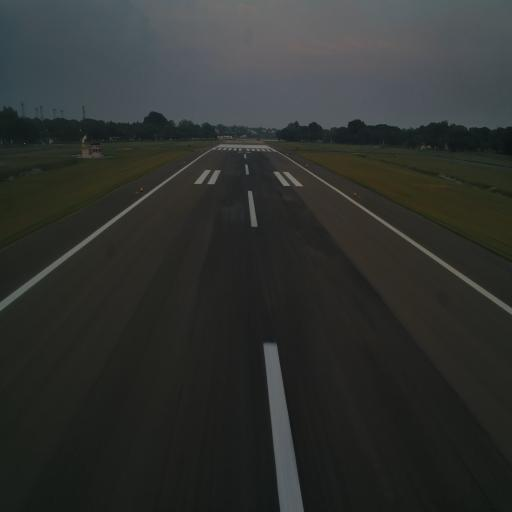on: (352, 190, 358, 198), (138, 185, 144, 193)
